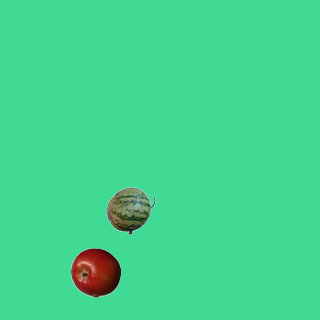Apple Braeburn: (70, 247, 120, 297)
Watermelon: (105, 185, 155, 235)
